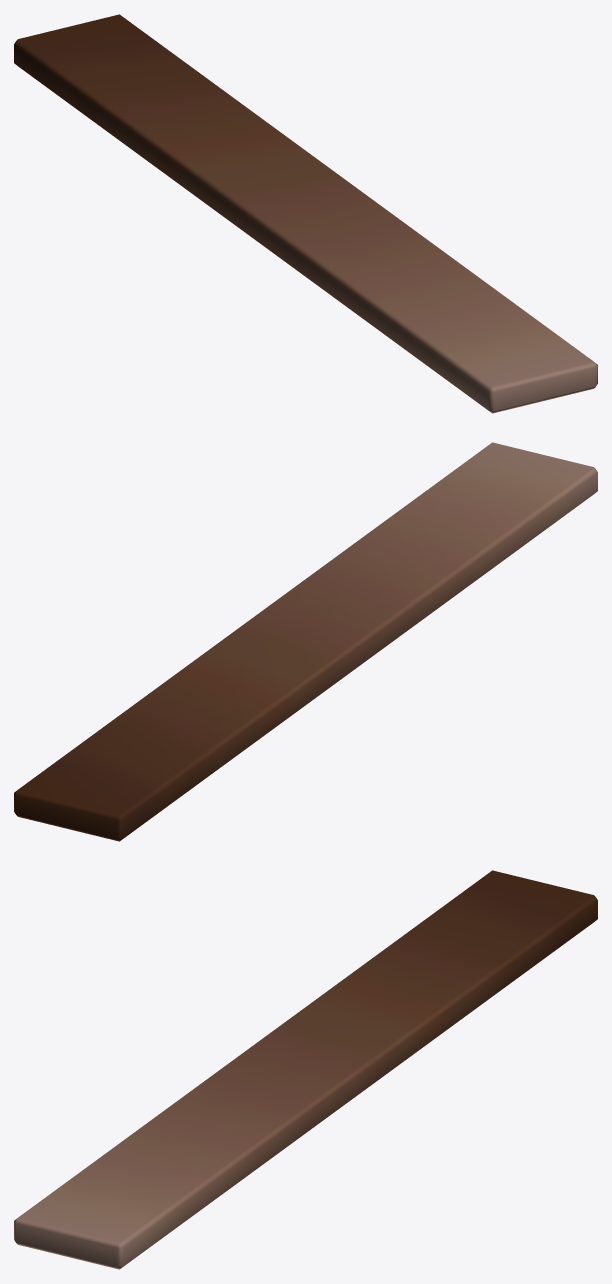
Rendered from M_WoodenPlank_01.fbx.
The picture shows the model from 3 angles, top to bottom: view 1: azimuth 30°, elevation 25°; view 2: azimuth 150°, elevation 25°; view 3: azimuth 330°, elevation 25°; orthographic projection.
Parts seen in each view (by area): view 1: M_WoodenPlank_01; view 2: M_WoodenPlank_01; view 3: M_WoodenPlank_01.
Boxes of the visible parts, x1,y1,x2,y2 form: M_WoodenPlank_01: [14, 14, 597, 413]; M_WoodenPlank_01: [14, 442, 597, 841]; M_WoodenPlank_01: [14, 870, 597, 1269].
Bounding box in the file's own units: 100 × 23.69 × 757.
Materials: 1 (1 with a texture image).
